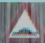Speed Breaker ahead: (4, 2, 42, 41)
